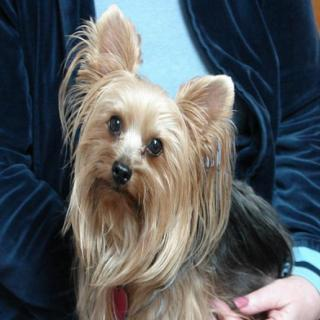dog: (44, 22, 240, 284)
nose: (108, 154, 138, 188)
